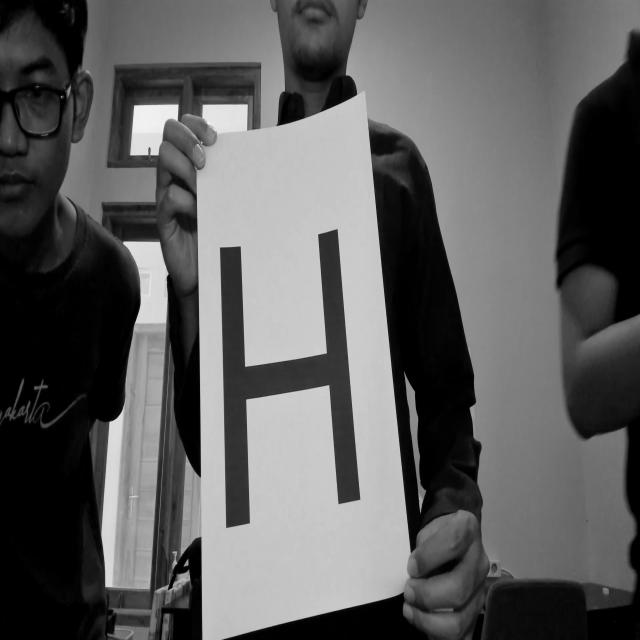h: (207, 215, 372, 548)
